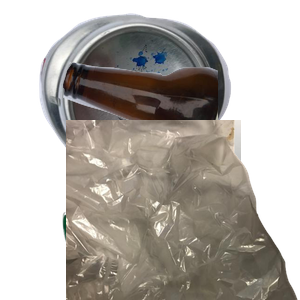glass: (60, 59, 300, 217)
metal: (37, 11, 261, 180)
plastic: (60, 120, 300, 300)
trash: (66, 120, 300, 300)
